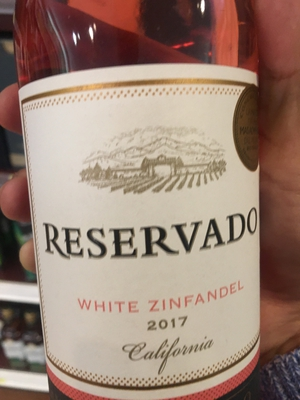reservado white zinfandel: (15, 7, 269, 395)
